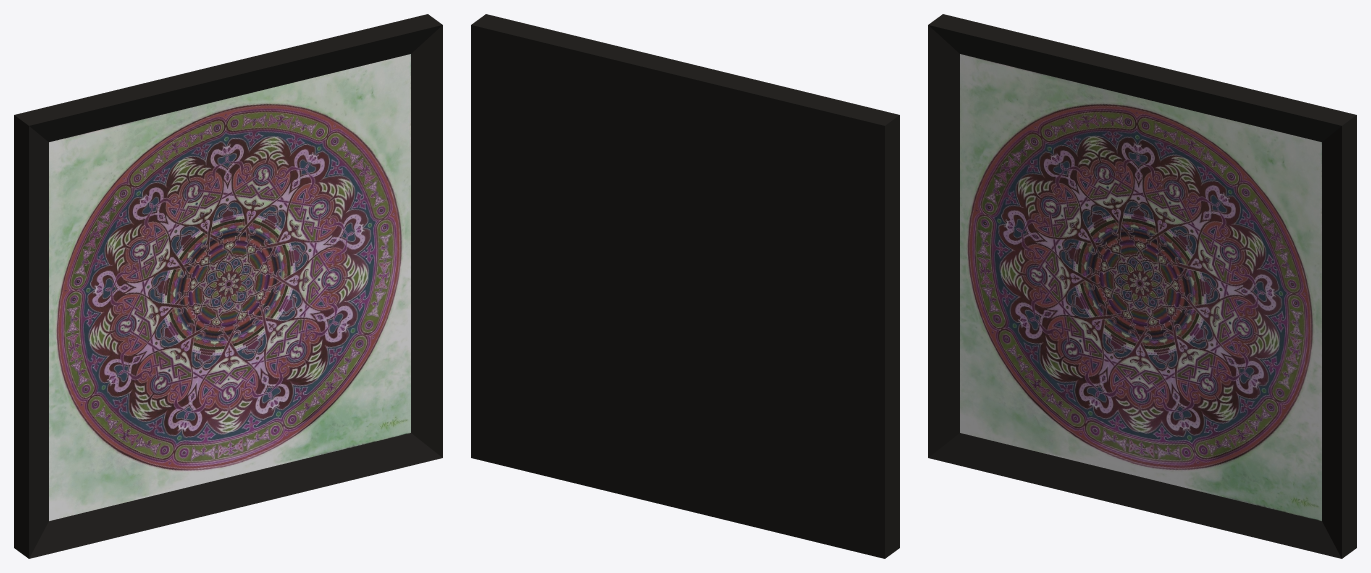
The model's file is enneagon-swans-enneagon-antique-pink-a2-stained-black-v2.glb.
3 views of the same model, side by side, from view 1: azimuth 30°, elevation 25°; view 2: azimuth 150°, elevation 25°; view 3: azimuth 330°, elevation 25° (orthographic).
Parts seen in each view (by area): view 1: FramedPrint; view 2: FramedPrint; view 3: FramedPrint.
Part boxes in pixels (<box>): FramedPrint: <box>14,14,442,558</box>; FramedPrint: <box>471,14,899,558</box>; FramedPrint: <box>928,14,1356,558</box>.
Size of the model in its own units: 0.48 by 0.48 by 0.03.
2 materials, 1 textured.
